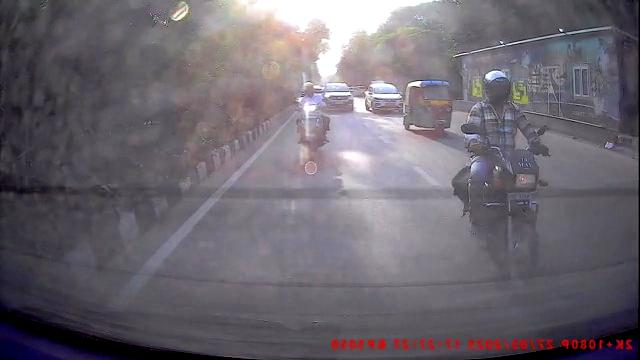motorcycle_with_helmet: (449, 68, 553, 287), (293, 81, 330, 163)
